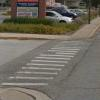Crosswalk: (26, 34, 71, 100)
